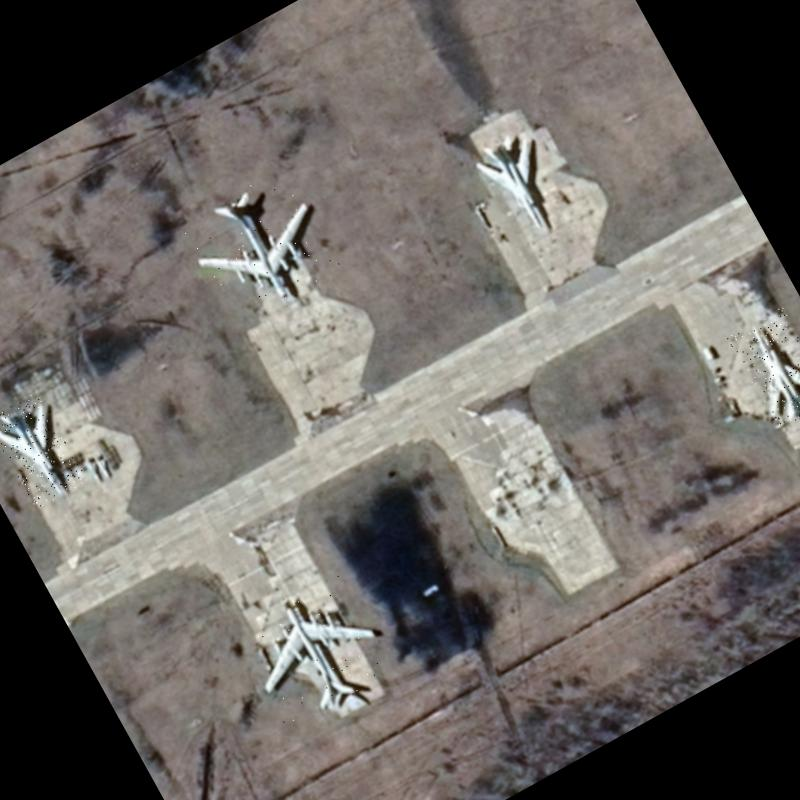A12: (468, 123, 571, 242), (0, 390, 87, 509), (726, 304, 800, 429)
A17: (177, 164, 344, 327), (233, 572, 399, 732)
